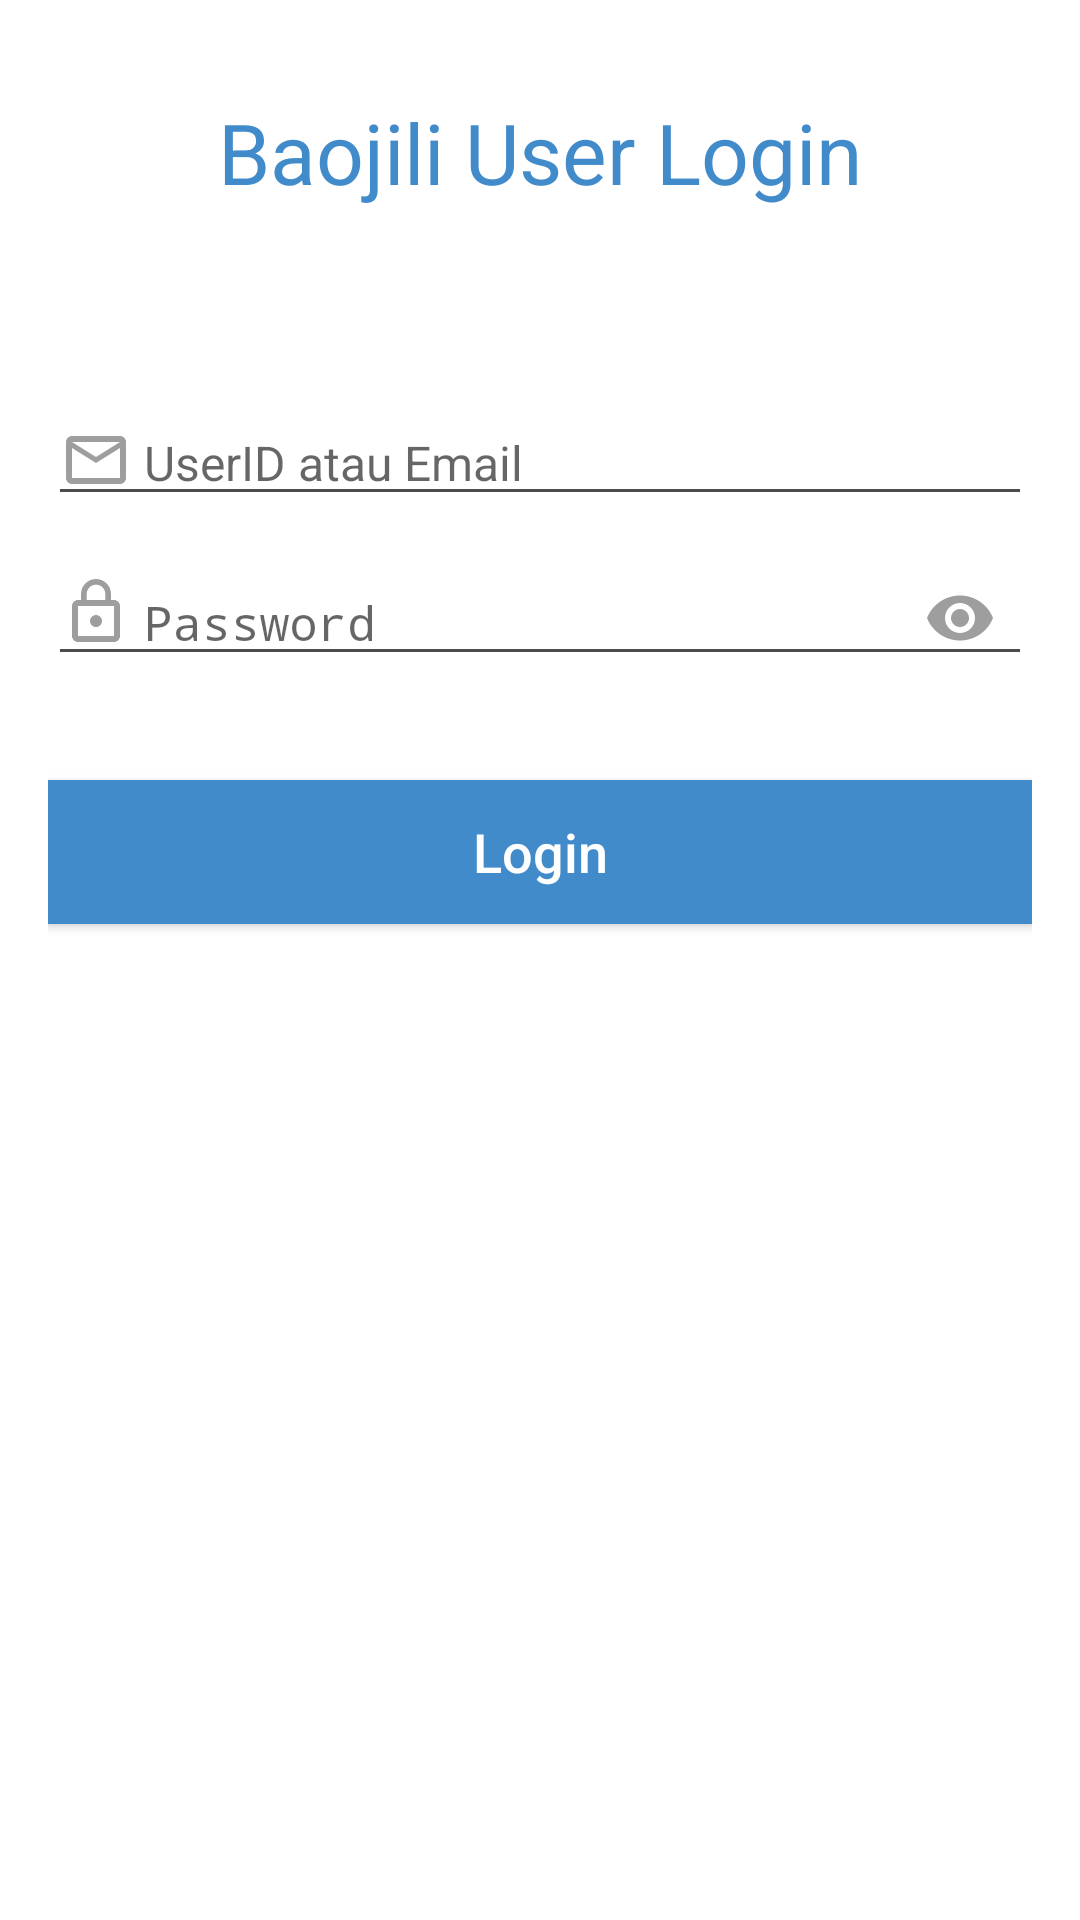

Where icons sit on this 1080×1920 app screen, as (x1, y1, x2, y2):
lock: (72, 579, 120, 642)
